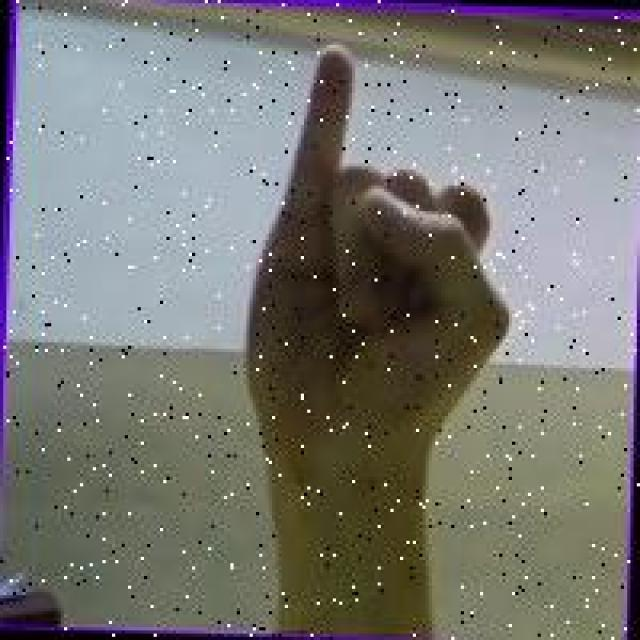I: (223, 30, 526, 542)
